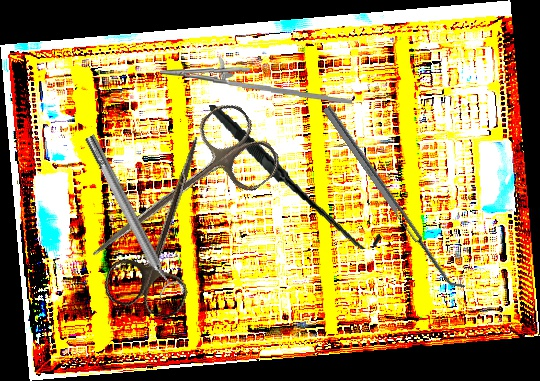Fixation Ring: (77, 129, 187, 305)
Hook Surgical: (209, 86, 382, 266)
Iris Scissors: (68, 95, 287, 294), (100, 123, 232, 323)
Needle Holder: (159, 53, 354, 106)
Spatula Surgical: (322, 100, 467, 296)
